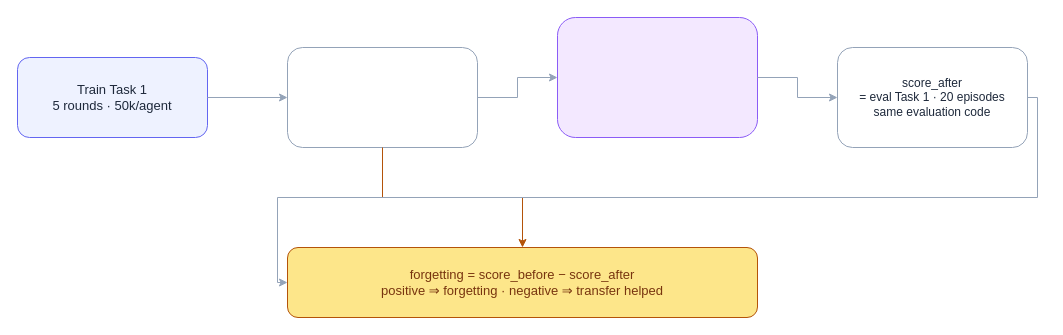
The diagram is 1063 pixels wide and 335 high, and some of its shapes have lost their labels. Each missing label, with the box of its shape:
score_before = eval Task 1 · 20 episodes (after Task-1 training): (286, 46, 478, 148)
Train Task 2 5 rounds · 50k/agent same models · 100% reuse + mitigations: (556, 16, 758, 138)
